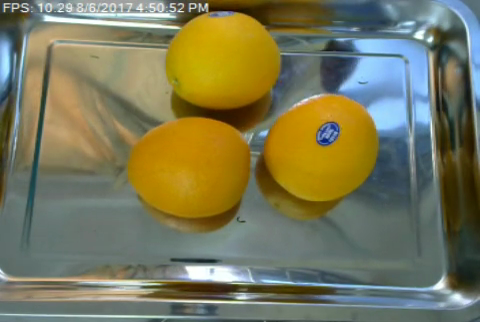Orange: (124, 116, 251, 217), (261, 92, 379, 200), (165, 11, 282, 111)
